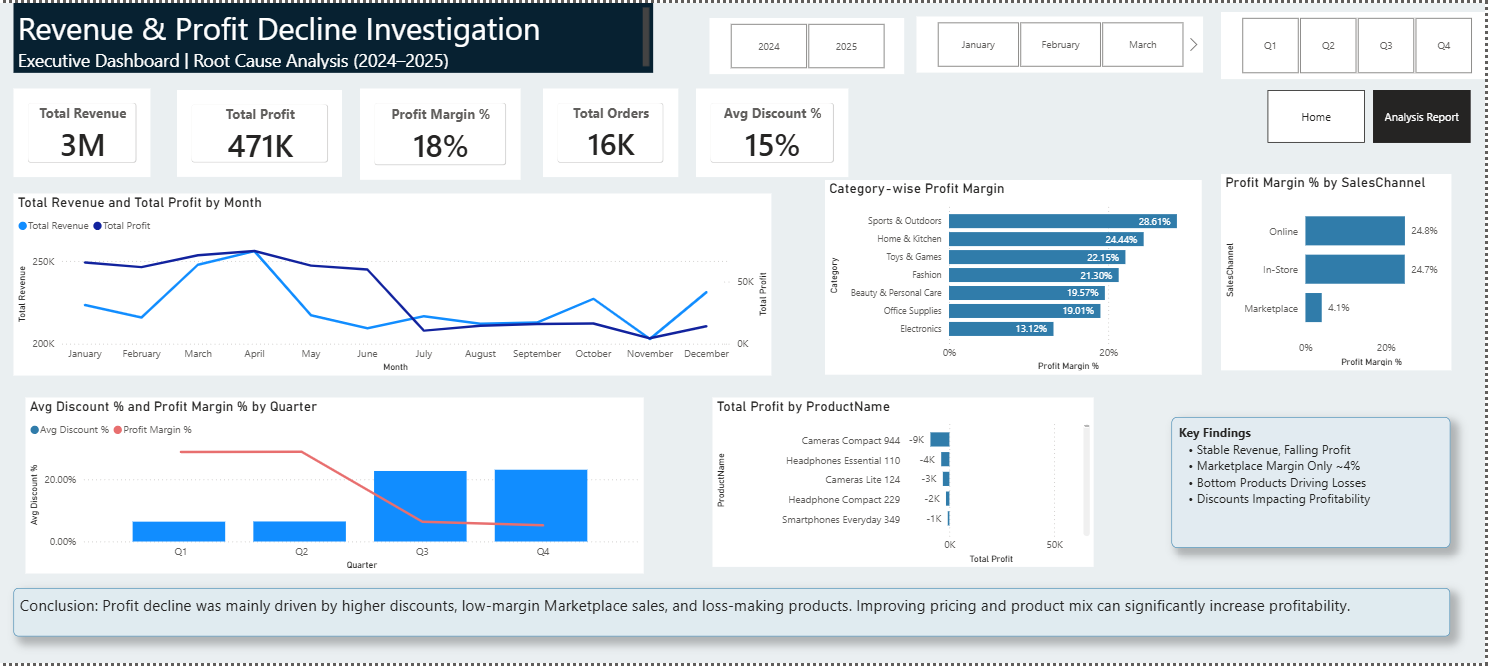

The page's visual inventory and layout, read from the dashboard file:
{"tool":"powerbi","page":{"name":"Analysis Report","canvas":[1800,800],"ordinal":1},"visuals":[{"type":"textbox","box":[17,0,775.5,84.9],"z":0},{"type":"cardVisual","fields":{"Data":["Measures (2).Total Orders"]},"box":[658.6,103.7,163.8,107.3],"z":1000},{"type":"cardVisual","fields":{"Data":["Measures (2).Profit Margin %"]},"box":[436.7,103.7,194.7,111],"z":2000},{"type":"cardVisual","fields":{"Data":["Measures (2).Avg Discount %"]},"box":[843.4,103.8,184.9,107.5],"z":3000},{"type":"cardVisual","fields":{"Data":["Measures (2).Total Revenue"]},"box":[17,103.8,166,107.5],"z":4000},{"type":"lineChart","fields":{"Category":["Calendar.Month"],"Y":["Measures (2).Total Revenue"],"Y2":["Measures (2).Total Profit"]},"box":[17,230.2,918.9,220.8],"z":5000},{"type":"clusteredBarChart","title":"Category-wise Profit Margin","fields":{"Category":["Products.Category"],"Y":["Measures (2).Profit Margin %"]},"box":[1000,215.1,456.6,235.8],"z":6000},{"type":"clusteredBarChart","fields":{"Category":["Orders.SalesChannel"],"Y":["Measures (2).Profit Margin %"]},"box":[1479.2,207.5,279.2,237.7],"z":7000},{"type":"lineClusteredColumnComboChart","fields":{"Category":["Calendar.Quarter"],"Y":["Measures (2).Avg Discount %"],"Y2":["Measures (2).Profit Margin %"]},"box":[30.2,477.4,749.1,213.2],"z":8000},{"type":"barChart","fields":{"Category":["Products.ProductName"],"Y":["Measures (2).Total Profit"]},"box":[864.2,477.4,462.3,205.7],"z":9000},{"type":"cardVisual","fields":{"Data":["Measures (2).Total Profit"]},"box":[215.1,105.7,200,105.7],"z":10000},{"type":"textbox","box":[17,709.4,1741.5,58.5],"z":11000},{"type":"textbox","box":[1420.8,501.9,337.7,158.5],"z":12000},{"type":"slicer","fields":{"Values":["Calendar.Month"]},"box":[1111.3,17,347.2,67.9],"z":13000},{"type":"slicer","fields":{"Values":["Calendar.Quarter"]},"box":[1479.2,11.3,328.3,81.1],"z":14000},{"type":"slicer","fields":{"Values":["Calendar.Year"]},"box":[860.4,18.9,235.8,67.9],"z":15000},{"type":"pageNavigator","box":[1535.8,105.7,247.2,64.2],"z":16000}]}

Visuals, with their boxes in screenshot pixels (x1, y1, x2, y2), scaled from the page's 1800x800 canvas onto the 1489x666 screenshot:
textbox: 14/0/656/71
cardVisual - Measures (2).Total Orders: 545/86/680/176
cardVisual - Measures (2).Profit Margin %: 361/86/522/179
cardVisual - Measures (2).Avg Discount %: 698/86/851/176
cardVisual - Measures (2).Total Revenue: 14/86/151/176
lineChart - Calendar.Month x Measures (2).Total Revenue: 14/192/774/375
"Category-wise Profit Margin" clusteredBarChart: 827/179/1205/375
clusteredBarChart - Orders.SalesChannel x Measures (2).Profit Margin %: 1224/173/1455/371
lineClusteredColumnComboChart - Calendar.Quarter x Measures (2).Avg Discount %: 25/397/645/575
barChart - Products.ProductName x Measures (2).Total Profit: 715/397/1097/569
cardVisual - Measures (2).Total Profit: 178/88/343/176
textbox: 14/591/1455/639
textbox: 1175/418/1455/550
slicer - Calendar.Month: 919/14/1207/71
slicer - Calendar.Quarter: 1224/9/1488/77
slicer - Calendar.Year: 712/16/907/72
pageNavigator: 1270/88/1475/141
